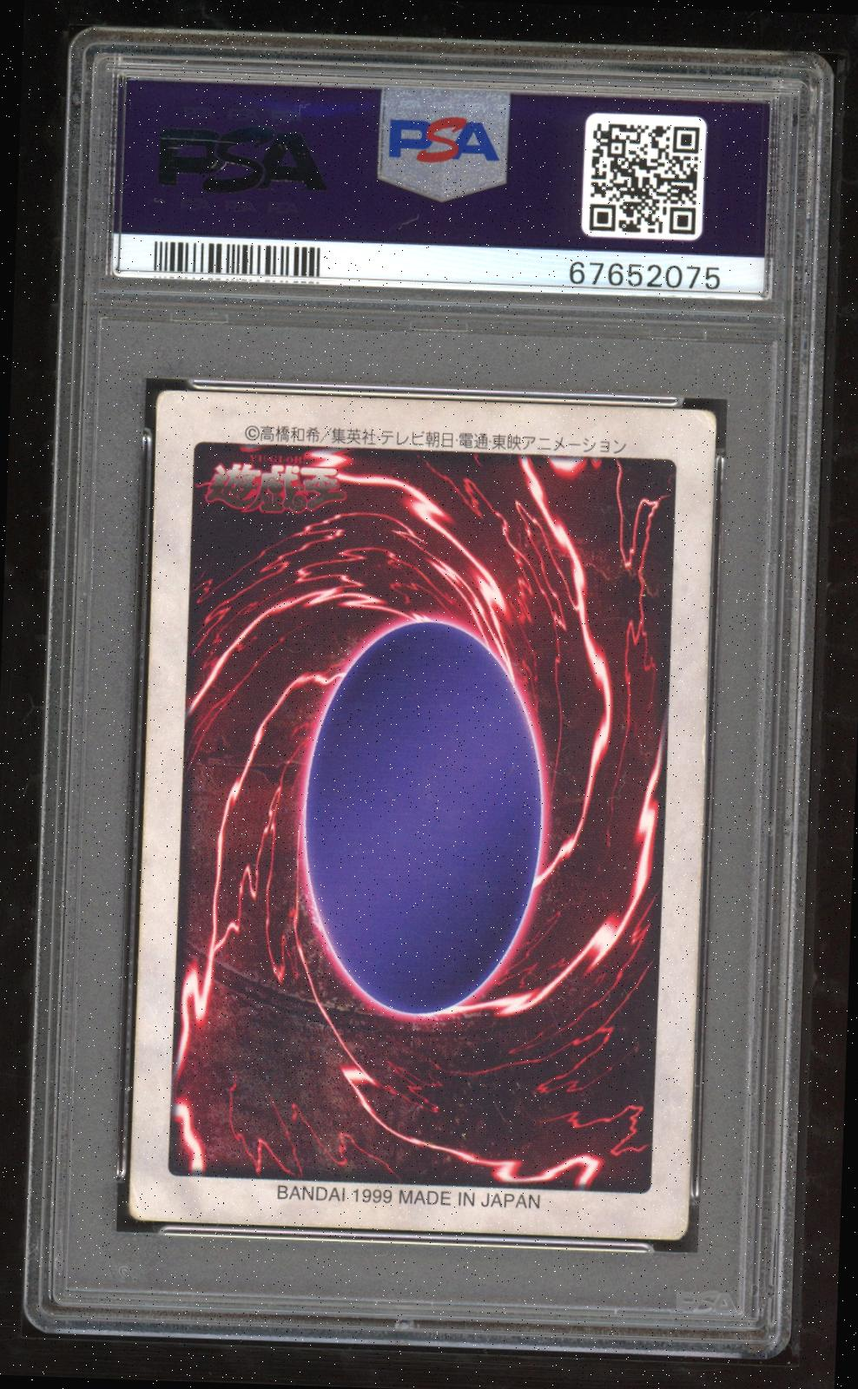card-2UtV: (127, 389, 717, 1240)
